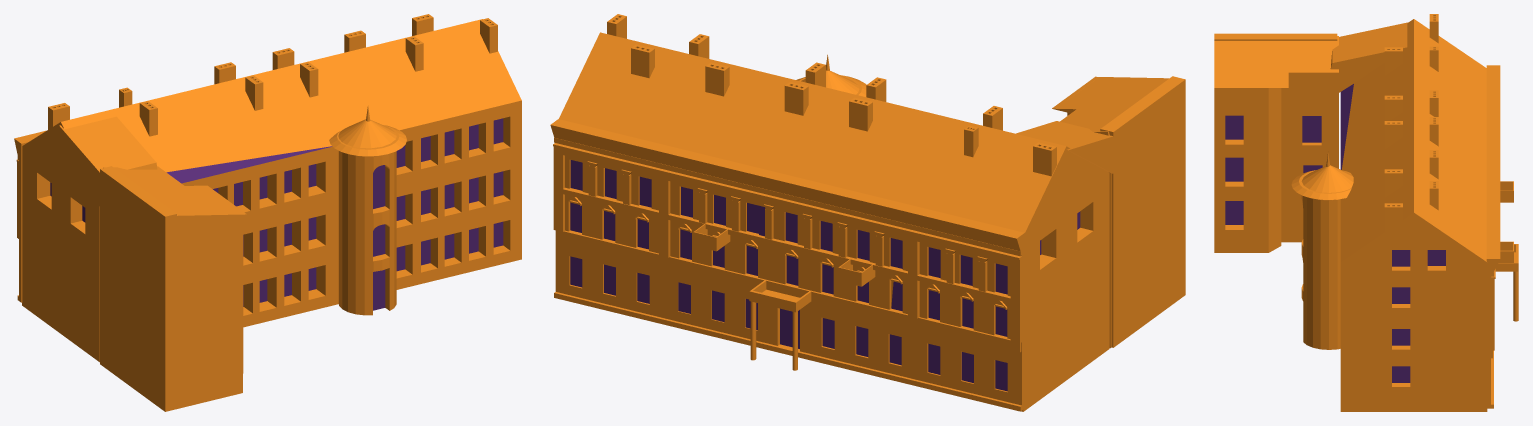
File: Stowarzyszenie Kupców.obj
3 renders of one model, left to right at view 1: azimuth 30°, elevation 25°; view 2: azimuth 150°, elevation 25°; view 3: azimuth 270°, elevation 25°, orthographic. The views are drawn at different scales.
Parts seen in each view (by area): view 1: Stowarzyszenie_Kupców_obj_0; view 2: Stowarzyszenie_Kupców_obj_0; view 3: Stowarzyszenie_Kupców_obj_0.
Boxes of the visible parts, x1=… form: Stowarzyszenie_Kupców_obj_0: x1=14, y1=14, x2=521, y2=411; Stowarzyszenie_Kupców_obj_0: x1=550, y1=14, x2=1185, y2=411; Stowarzyszenie_Kupców_obj_0: x1=1214, y1=14, x2=1518, y2=411.
Bounding box in the file's own units: 36.38 × 17.83 × 24.05.
